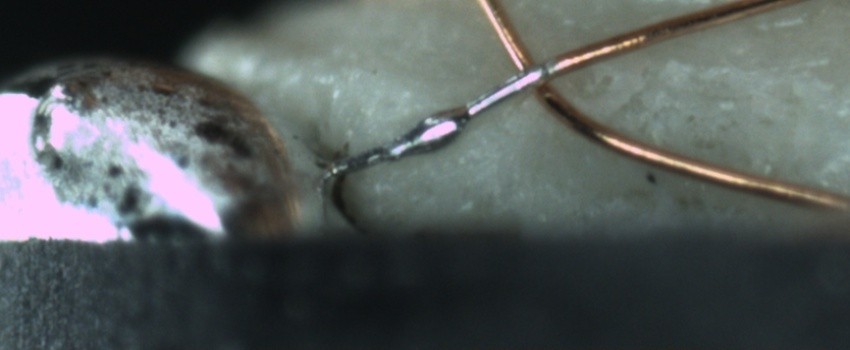CL: (500, 41, 574, 106)
TB: (398, 102, 470, 158)
TS: (335, 64, 557, 174)
TTCW: (320, 42, 593, 176)
